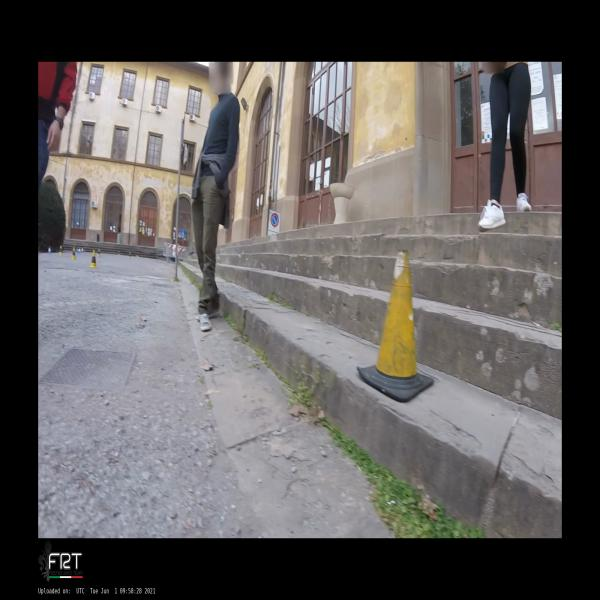blue_cone: (48, 246, 51, 254), (79, 248, 81, 253)
unknown_cone: (356, 250, 434, 403)
yellow_cone: (88, 250, 98, 268), (71, 247, 77, 259), (59, 246, 62, 255), (98, 249, 100, 257), (128, 252, 130, 259)
